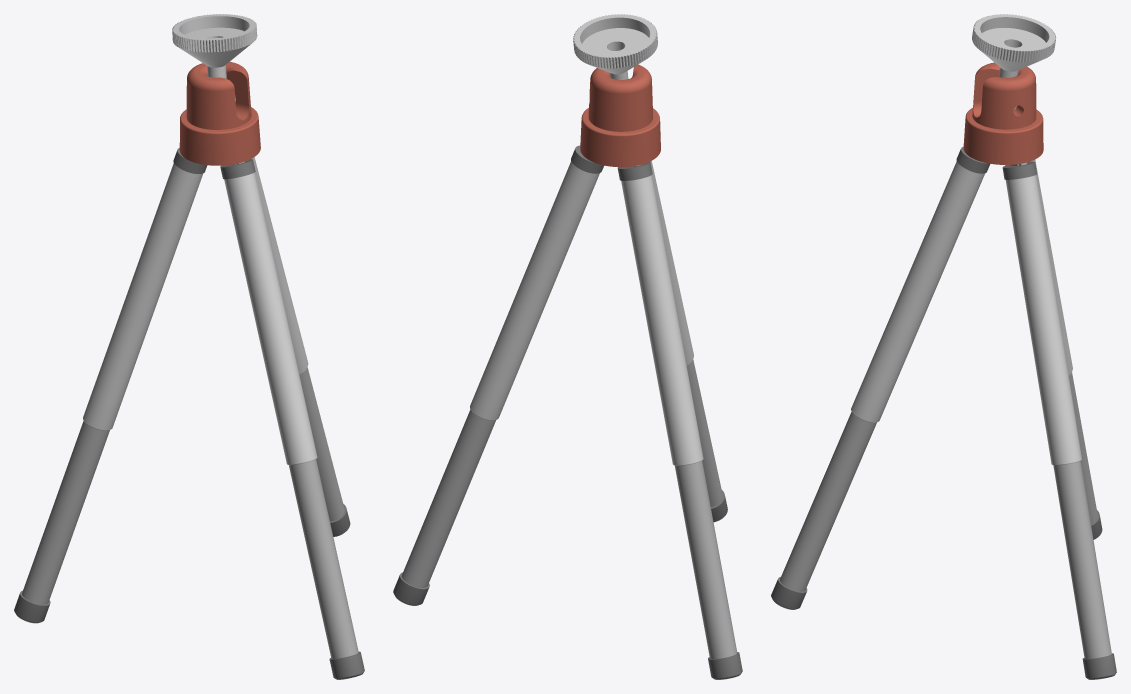
Rendered from tripod.glb.
3 views of the same model, side by side, from view 1: azimuth 30°, elevation 25°; view 2: azimuth 150°, elevation 25°; view 3: azimuth 270°, elevation 25° (orthographic).
Parts seen in each view (by area): view 1: Object_2; view 2: Object_2; view 3: Object_2.
Part boxes in pixels (box(x1,y1,x2,y2)): Object_2: box(14, 14, 364, 679); Object_2: box(393, 14, 742, 679); Object_2: box(771, 14, 1116, 679).
Bounding box in the file's own units: 114 × 190 × 102.
